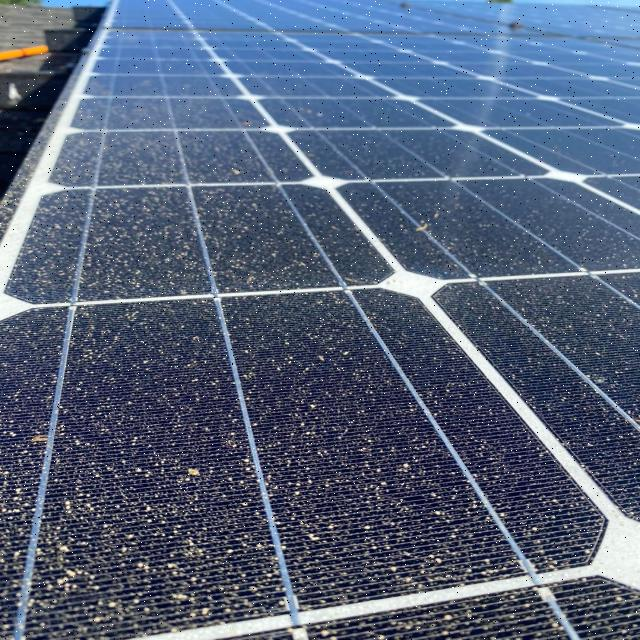dusty: (0, 98, 597, 640)
